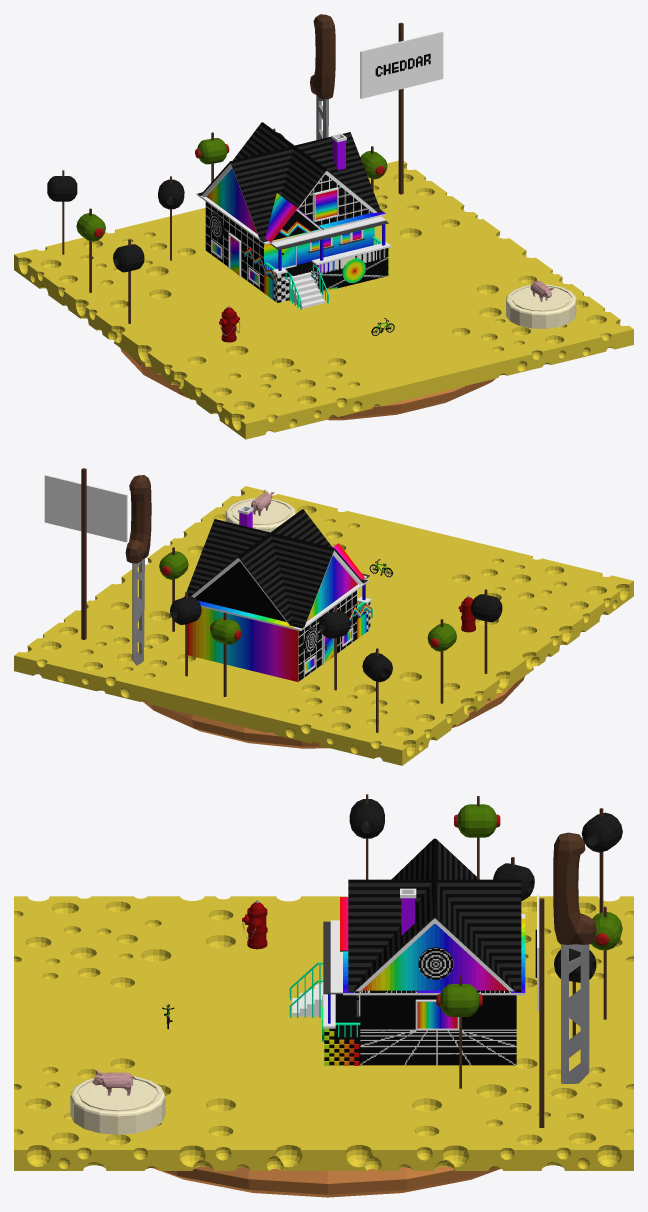
3 renders of one model, top to bottom at view 1: azimuth 30°, elevation 25°; view 2: azimuth 150°, elevation 25°; view 3: azimuth 270°, elevation 25°, orthographic. The views are drawn at different scales.
Parts seen in each view (by area): view 1: Cube.022, Cube.1320, Cube.023, Cylinder.016, Cube.024, UNDERGROUND_PIZZA, Sphere.017, Sphere.016, Sphere.018, Sphere.022, Sphere.020, Sphere.019; view 2: Cube.022, Cube.1320, Cube.023, Cube.024, UNDERGROUND_PIZZA, Cylinder.016, Sphere.017, Sphere.022, Sphere.020, Sphere.021, Sphere.018, Sphere.016 (+2 smaller); view 3: Cube.022, Cube.1320, Cube.024, UNDERGROUND_PIZZA, Cylinder.016, Cube.023, Sphere.016, Sphere.019, Sphere.018, Sphere.017, Sphere.022, OBJRANDOM_FIRE_HYDRANT (+3 smaller).
Part boxes in pixels (<box>): Cube.022: <box>14,160,633,439</box>; Cube.1320: <box>196,122,390,309</box>; Cube.023: <box>360,22,443,194</box>; Cylinder.016: <box>506,284,576,328</box>; Cube.024: <box>310,14,335,140</box>; UNDERGROUND_PIZZA: <box>120,348,495,420</box>; Sphere.017: <box>113,239,144,323</box>; Sphere.016: <box>47,170,77,254</box>; Sphere.018: <box>76,208,105,292</box>; Sphere.022: <box>195,132,229,181</box>; Sphere.020: <box>158,176,184,260</box>; Sphere.019: <box>360,146,387,191</box>; Cube.022: <box>14,486,633,765</box>; Cube.1320: <box>183,505,372,681</box>; Cube.023: <box>44,468,127,639</box>; Cube.024: <box>125,475,151,665</box>; UNDERGROUND_PIZZA: <box>143,676,524,748</box>; Cylinder.016: <box>225,498,295,532</box>; Sphere.017: <box>471,589,502,673</box>; Sphere.022: <box>210,612,241,696</box>; Sphere.020: <box>319,606,350,690</box>; Sphere.021: <box>170,592,201,676</box>; Sphere.018: <box>427,619,456,703</box>; Sphere.016: <box>362,648,392,732</box>; Cube.022: <box>14,896,633,1170</box>; Cube.1320: <box>289,838,525,1065</box>; Cube.024: <box>553,832,596,1083</box>; UNDERGROUND_PIZZA: <box>152,1166,500,1197</box>; Cylinder.016: <box>70,1076,165,1134</box>; Cube.023: <box>535,894,544,1127</box>; Sphere.016: <box>581,808,622,912</box>; Sphere.019: <box>436,975,482,1088</box>; Sphere.018: <box>454,796,500,878</box>; Sphere.017: <box>349,794,384,879</box>; Sphere.022: <box>591,906,622,1019</box>; OBJRANDOM_FIRE_HYDRANT: <box>242,900,267,949</box>.
Bounding box in the file's own units: 3917 × 2219 × 4000.
Materials: 36 (5 with a texture image).
